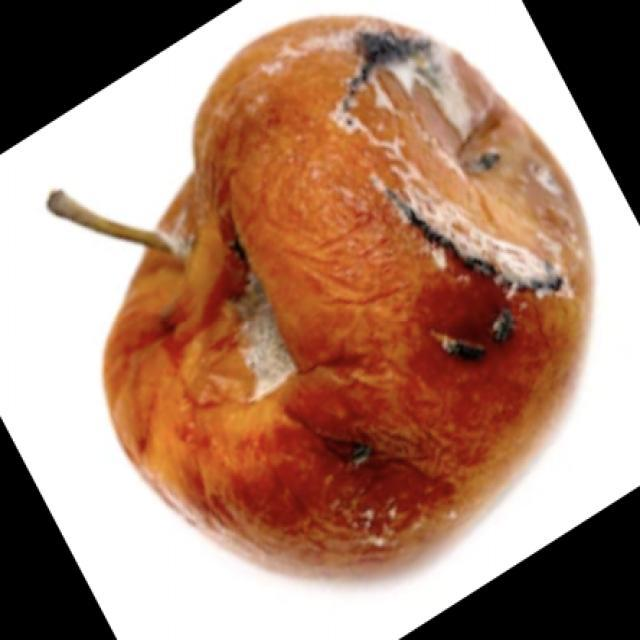Rotten: (119, 36, 574, 546)
